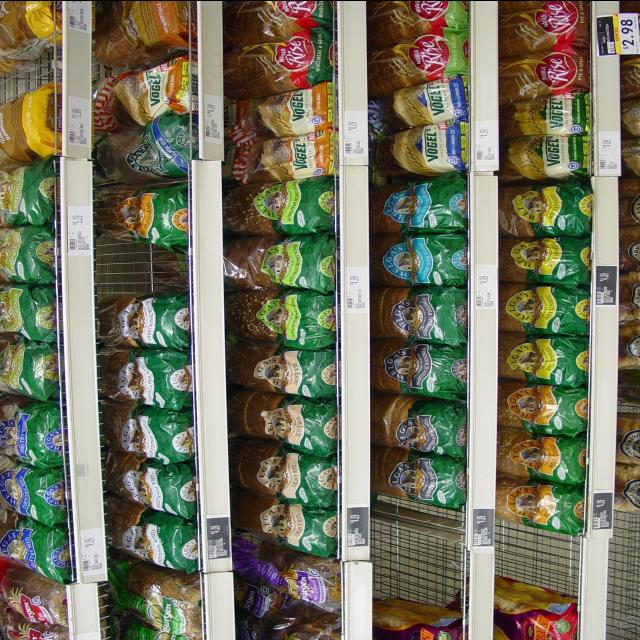empty_space: (371, 543, 461, 595), (500, 532, 585, 580), (108, 252, 188, 296), (5, 67, 59, 87)
